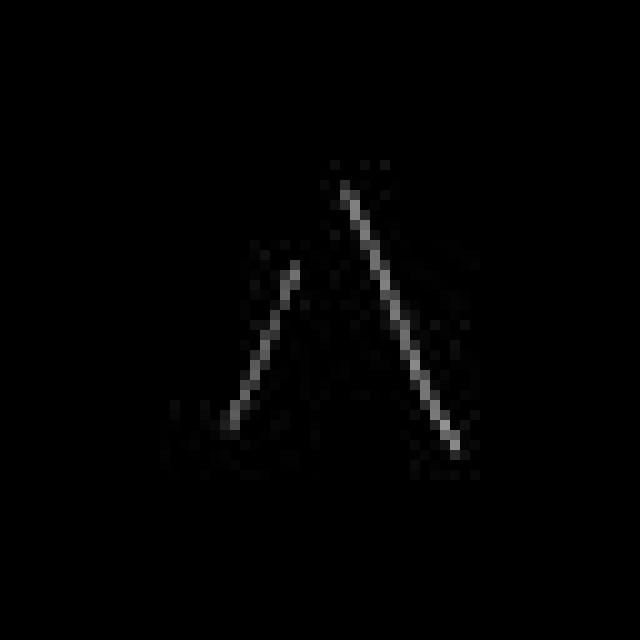8 -eight-: (194, 176, 485, 471)
